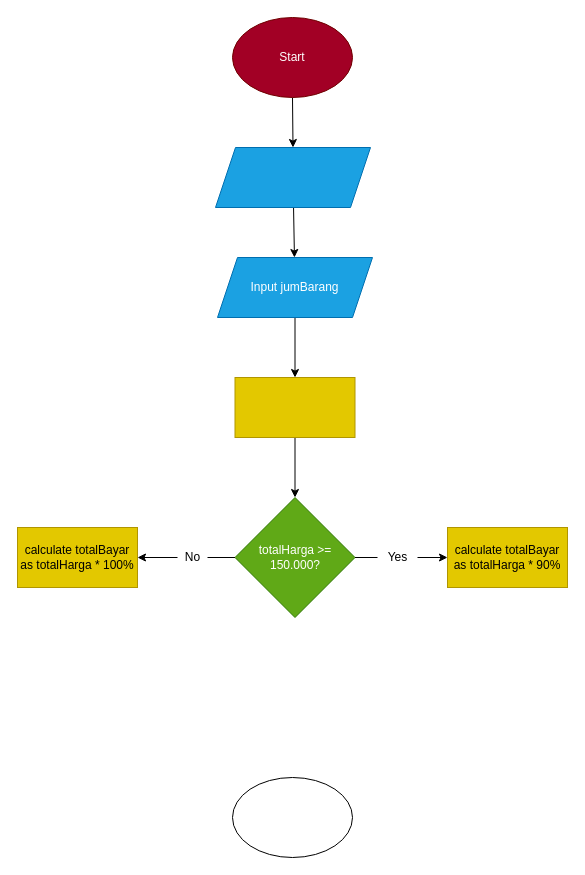
The diagram is 585 pixels wide and 875 high, and some of its shapes have lost their labels. The shapes that lost their labels are listed below. From the top down, each one's box as (x1, y1, x2, y2) in pixels, then its label:
(214, 146, 370, 208): Input namaBarang
(234, 376, 355, 438): calculate totalHarga as hargaBarang * jumBaang
